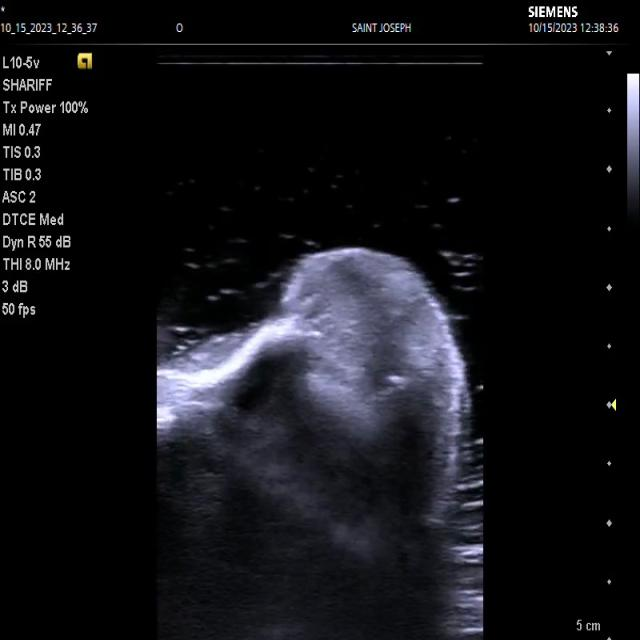tissue: (158, 249, 469, 640)
